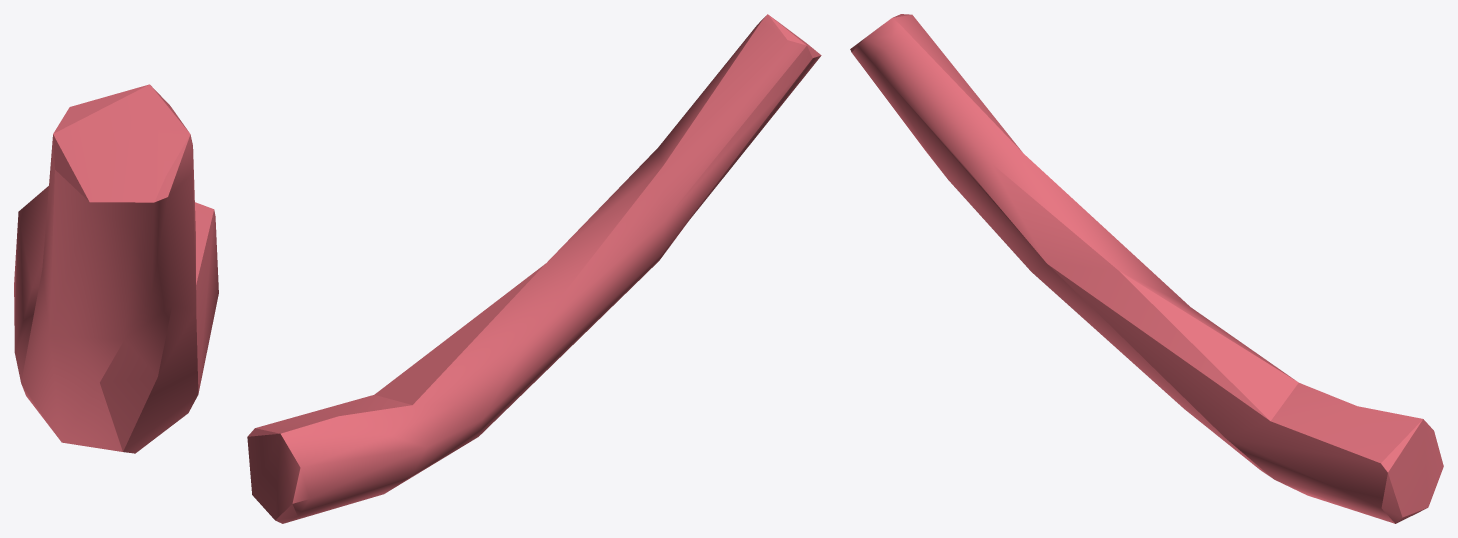
File: fma8620_fj6049.glb
3 views of the same model, side by side, from view 1: azimuth 30°, elevation 25°; view 2: azimuth 150°, elevation 25°; view 3: azimuth 270°, elevation 25° (orthographic). The views are drawn at different scales.
Parts seen in each view (by area): view 1: FMA8620_FJ6049; view 2: FMA8620_FJ6049; view 3: FMA8620_FJ6049.
Part boxes in pixels (x1,y1,x2,y2): FMA8620_FJ6049: (14,84,218,453); FMA8620_FJ6049: (247,14,821,523); FMA8620_FJ6049: (850,14,1443,523).
Bounding box in the file's own units: 0.00947 × 0.0105 × 0.0148.
